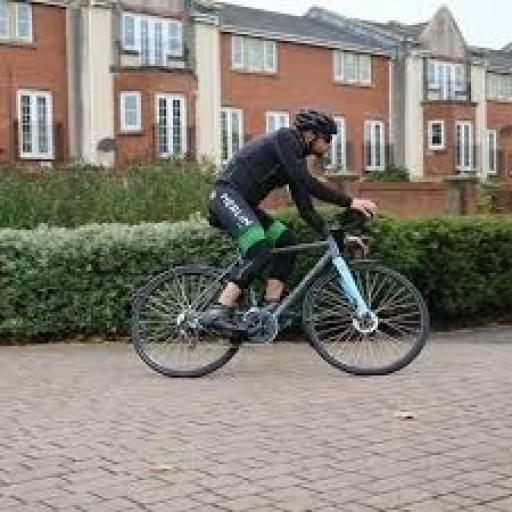cycling: (194, 104, 382, 344)
